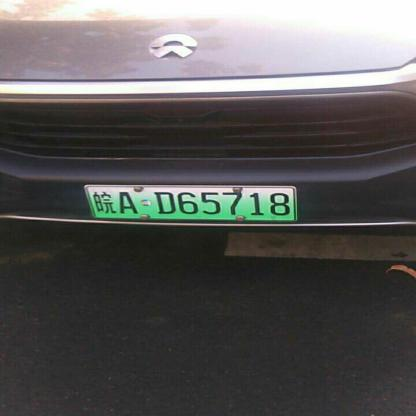lp: (84, 185, 294, 220)
